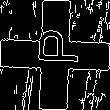P_W: (29, 36, 81, 74)
